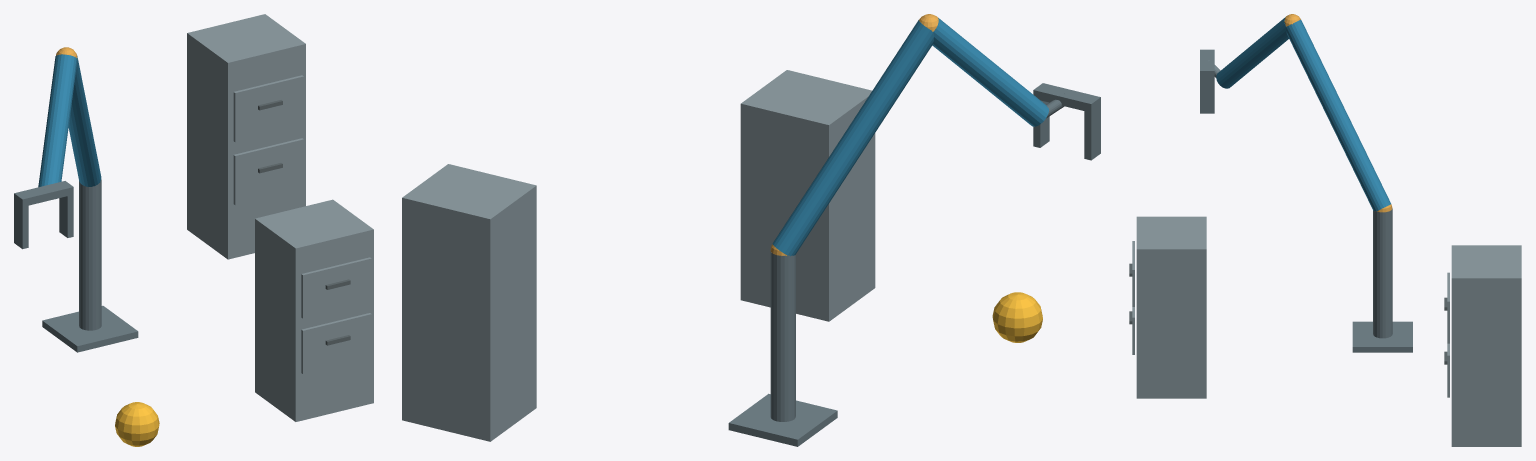
The picture shows the model from 3 angles, left to right: view 1: azimuth 30°, elevation 25°; view 2: azimuth 150°, elevation 25°; view 3: azimuth 270°, elevation 25°; orthographic projection. The views are drawn at different scales.
Visible parts, largest first — view 1: cabinet_2 body, cabinet_1 body, cabinet_2 drawer front, cabinet_2 drawer front.001, fixed post, cabinet_1 drawer front, cabinet_1 drawer front.001, moving link 2, pedestal, moving link 1, ball ball_1, gripper bridge (+2 smaller); view 2: cabinet_2 body, cabinet_1 body, moving link 1, fixed post, moving link 2, pedestal, ball ball_1, gripper bridge, gripper finger -1; view 3: cabinet_2 body, cabinet_1 body, moving link 1, fixed post, moving link 2, pedestal, gripper finger 1, gripper bridge.
Boxes of the visible parts, left/top/right/bottom form: cabinet_2 body: left=187, top=14, right=305, bottom=259; cabinet_1 body: left=255, top=199, right=373, bottom=421; cabinet_2 drawer front: left=233, top=138, right=303, bottom=205; cabinet_2 drawer front.001: left=233, top=75, right=303, bottom=142; fixed post: left=79, top=180, right=101, bottom=330; cabinet_1 drawer front: left=301, top=313, right=371, bottom=374; cabinet_1 drawer front.001: left=301, top=257, right=371, bottom=318; moving link 2: left=38, top=54, right=77, bottom=187; pedestal: left=42, top=305, right=138, bottom=352; moving link 1: left=68, top=56, right=101, bottom=186; ball ball_1: left=115, top=402, right=159, bottom=446; gripper bridge: left=14, top=181, right=73, bottom=206; cabinet_2 body: left=402, top=164, right=536, bottom=441; cabinet_1 body: left=740, top=70, right=875, bottom=321; moving link 1: left=772, top=20, right=933, bottom=256; fixed post: left=770, top=252, right=795, bottom=421; moving link 2: left=932, top=18, right=1048, bottom=126; pedestal: left=728, top=393, right=837, bottom=446; ball ball_1: left=992, top=292, right=1042, bottom=342; gripper bridge: left=1033, top=83, right=1100, bottom=112; gripper finger -1: left=1084, top=106, right=1100, bottom=160; cabinet_2 body: left=1451, top=245, right=1521, bottom=446; cabinet_1 body: left=1136, top=216, right=1206, bottom=398; moving link 1: left=1286, top=19, right=1390, bottom=211; fixed post: left=1373, top=208, right=1392, bottom=338; moving link 2: left=1216, top=17, right=1288, bottom=88; pedestal: left=1352, top=321, right=1412, bottom=352; gripper finger 1: left=1200, top=77, right=1214, bottom=113; gripper bridge: left=1200, top=49, right=1214, bottom=77.
Bounding box in the file's own units: 1.76 × 1.34 × 1.62.
